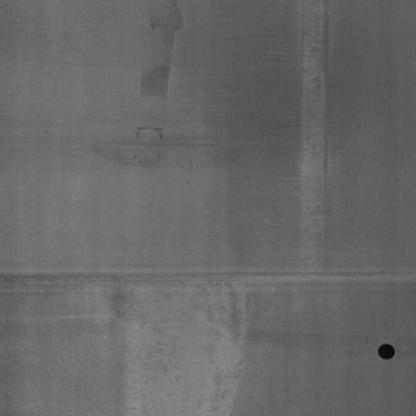punching_hole: (373, 337, 399, 364)
rolled_pit: (292, 2, 335, 256), (129, 1, 182, 169)
welding_line: (1, 260, 414, 292)
